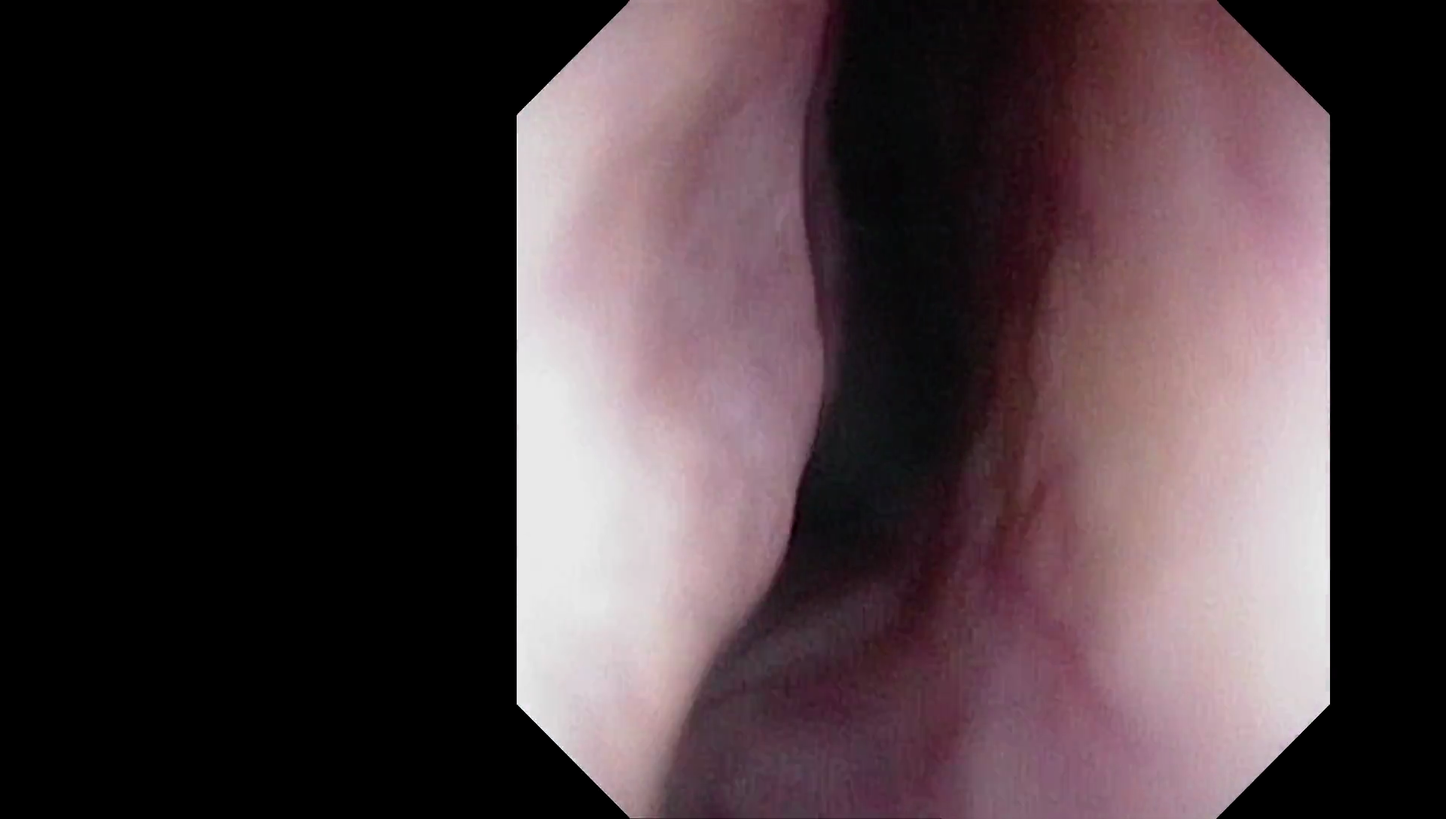close_wall: (526, 84, 798, 703), (1050, 156, 1324, 708)
next: (740, 7, 1035, 665)
